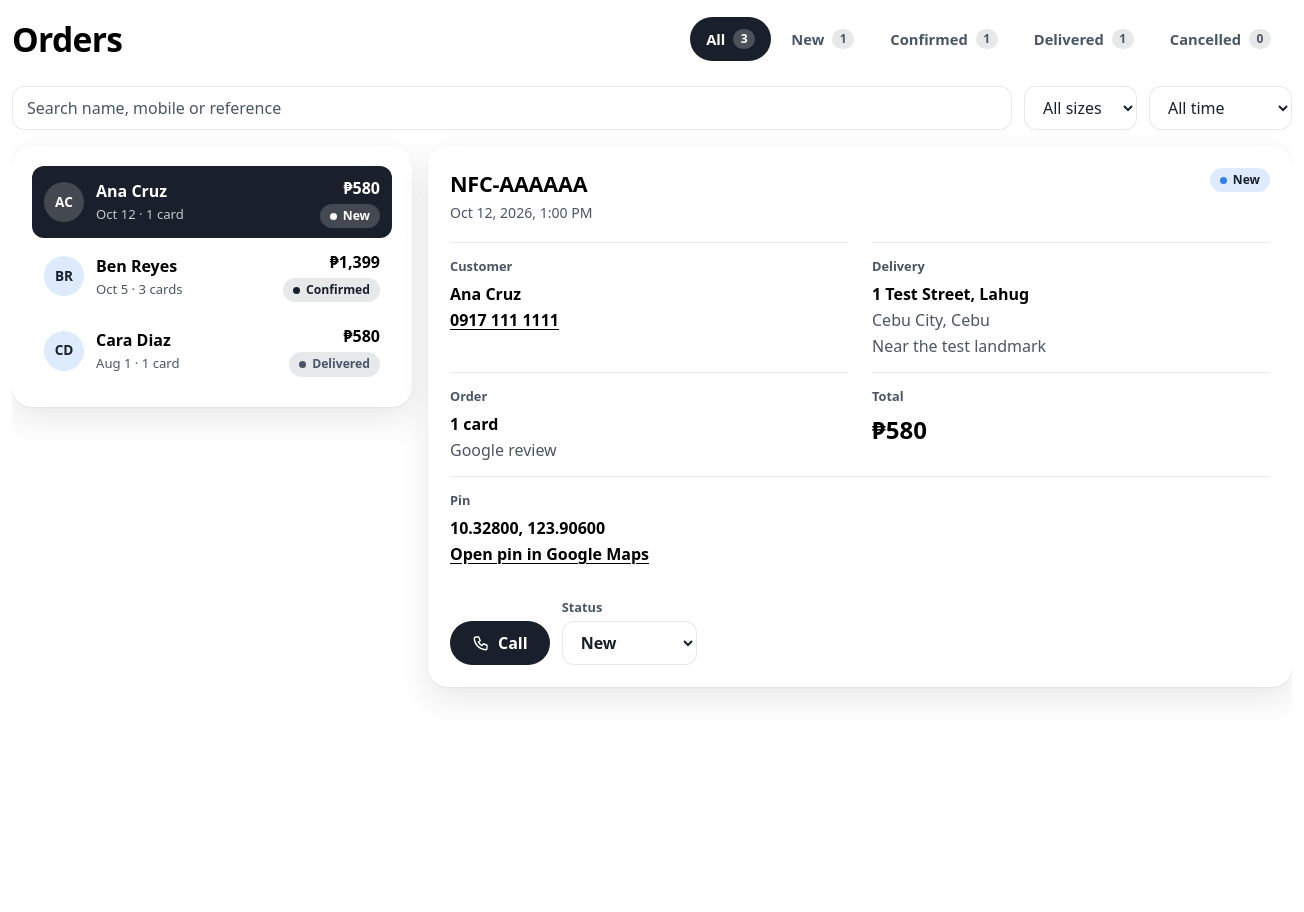
it: OrdersPage › changes the status of the order and shows the new one at once
Select "Confirmed" in the dropdown labelled "Status": coordinates (629, 643) top-left (562, 621), bottom-right (697, 665)
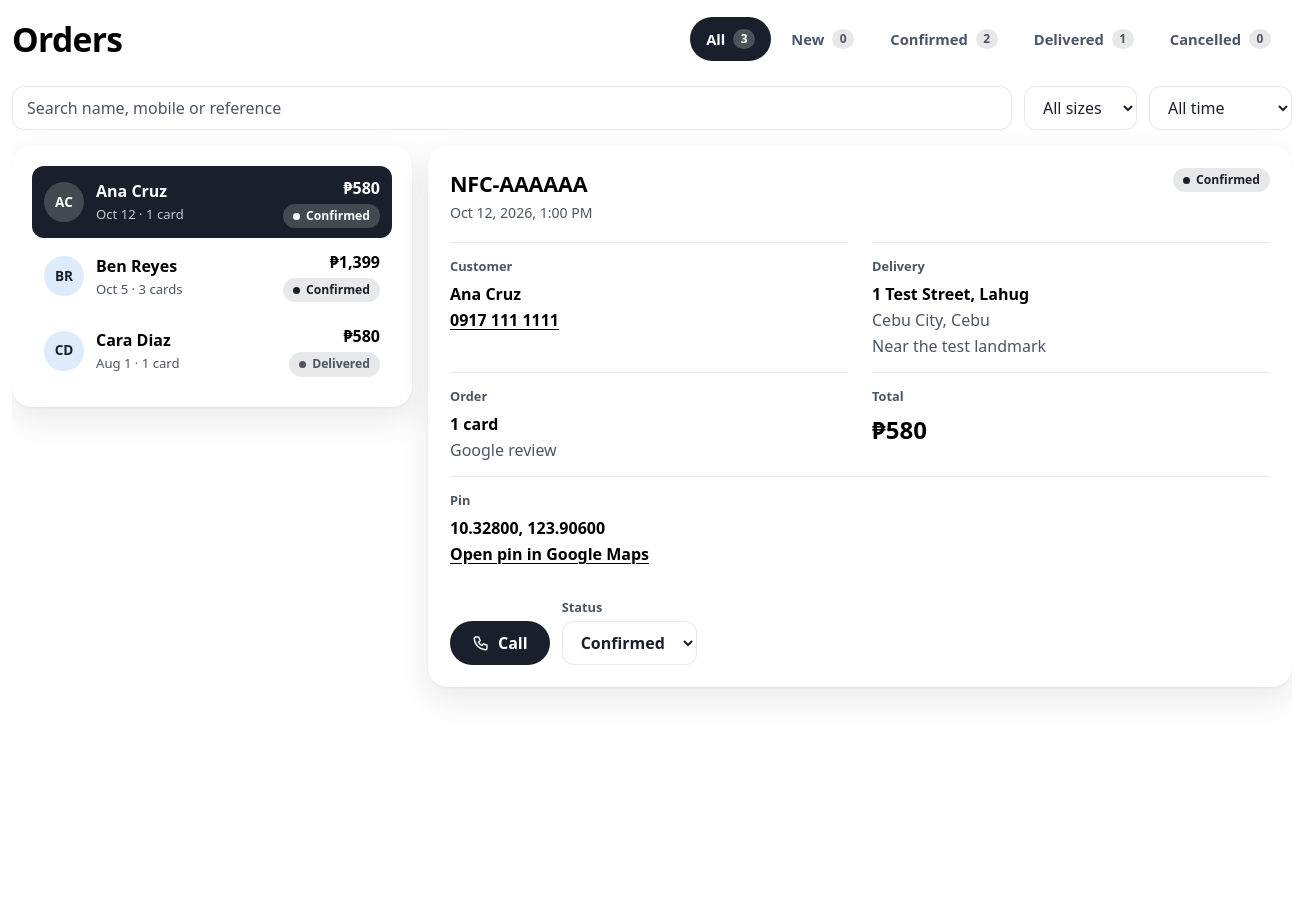
Expected: the button "New 0" is shown, top-left (775, 17), bottom-right (870, 61)
Expected: the button "Confirmed 2" is shown, top-left (874, 17), bottom-right (1014, 61)
